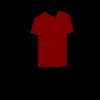abbigliamento_uomo: (30, 10, 73, 67)
